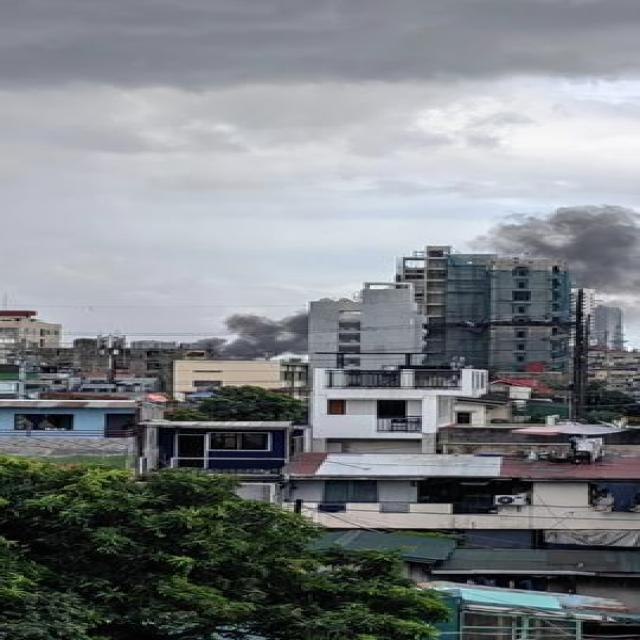Smoke: (480, 204, 640, 296), (216, 310, 310, 360)
